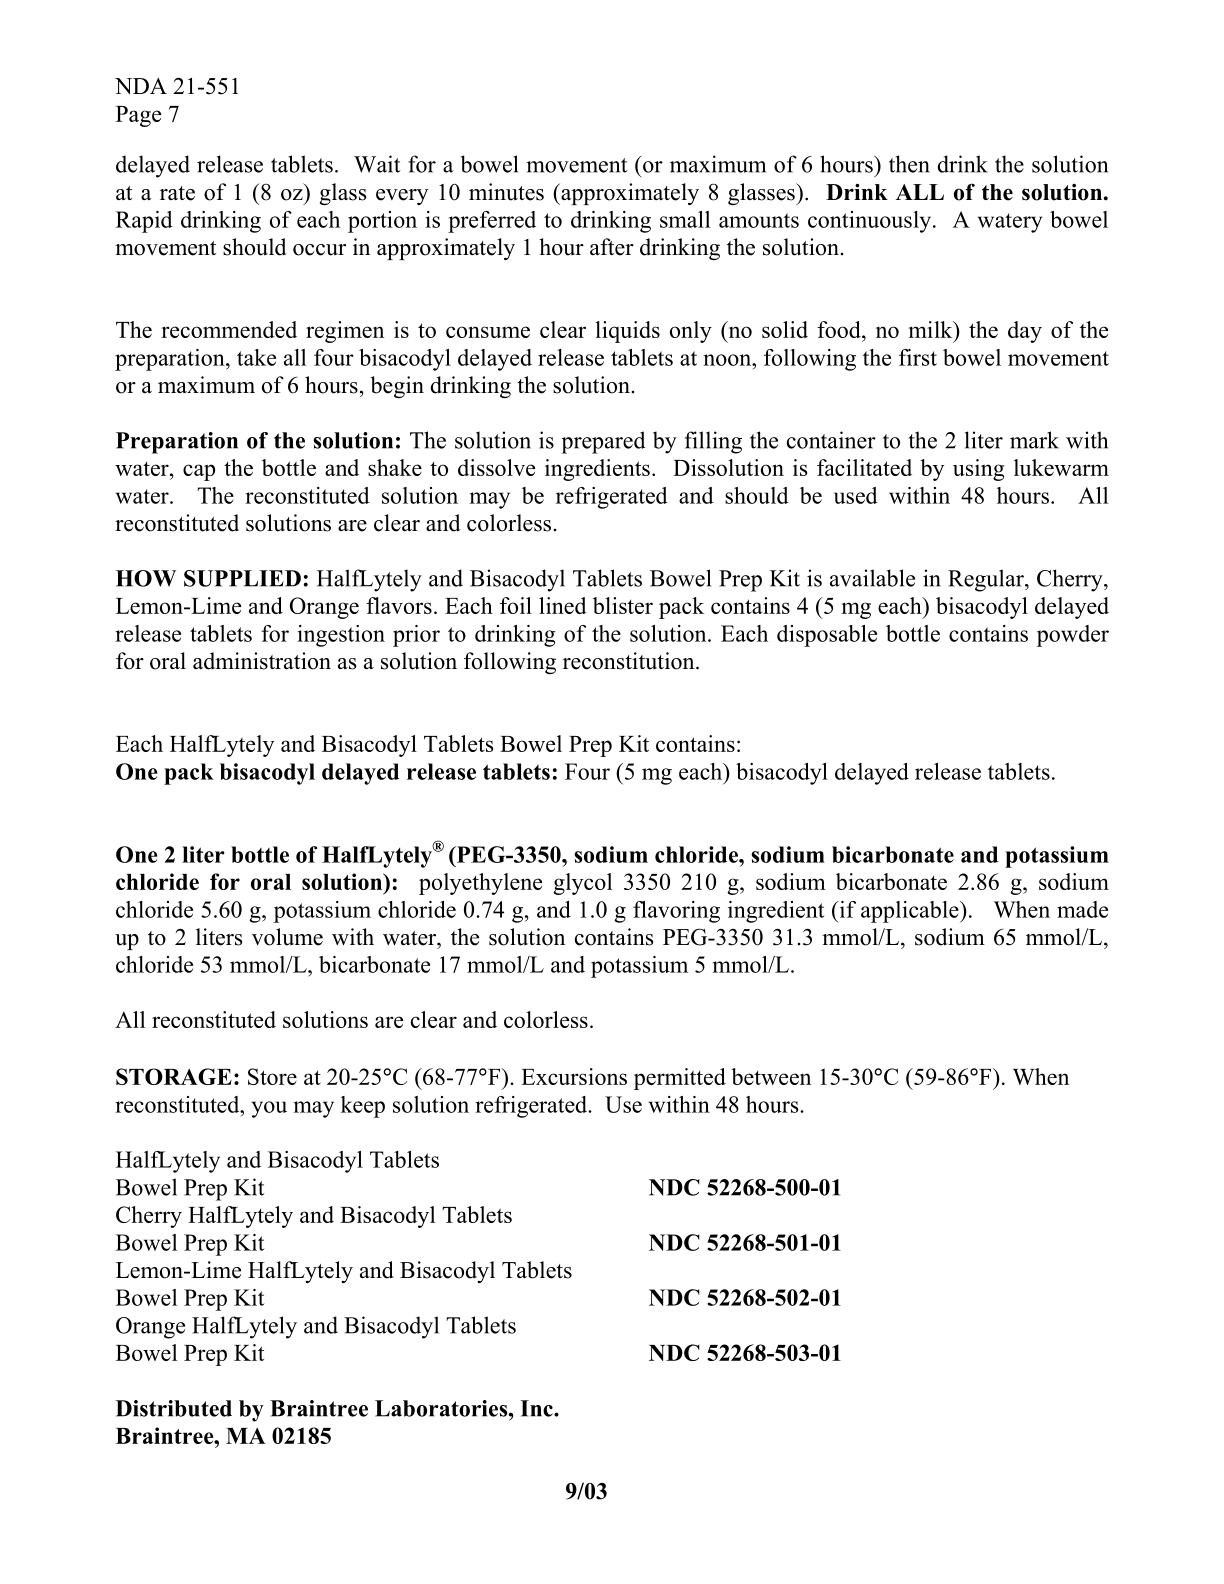nolines: (113, 1147, 843, 1363)
